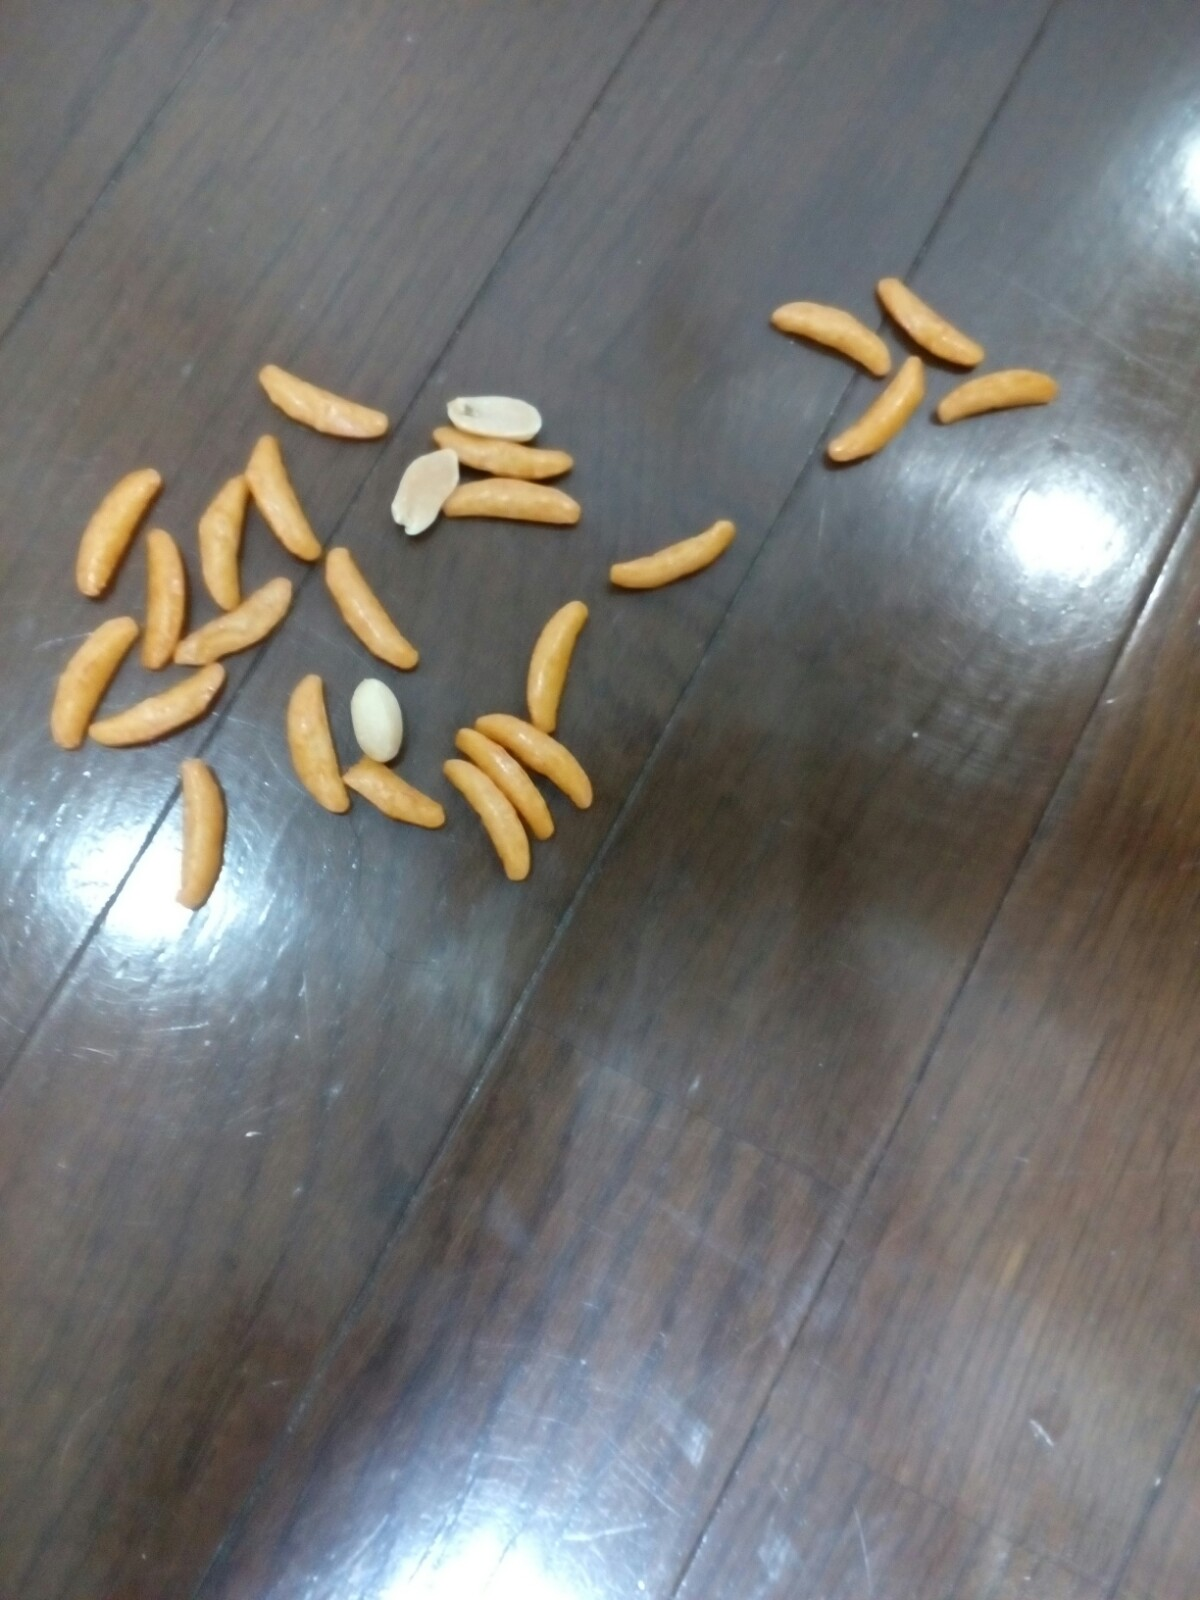peanut: (435, 380, 556, 442), (389, 446, 463, 542), (345, 671, 407, 770)
